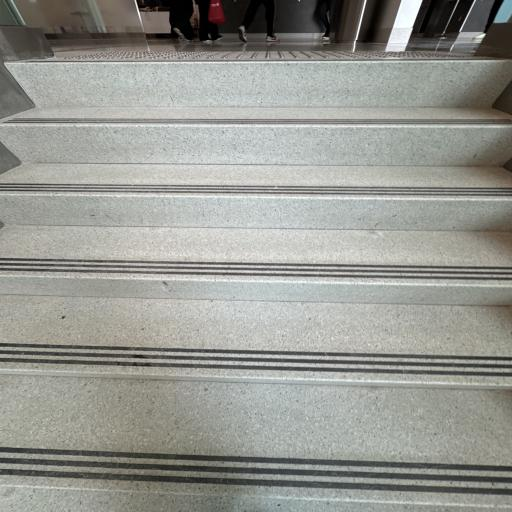Stairs: (0, 58, 512, 512), (0, 295, 512, 389), (0, 163, 512, 231)
